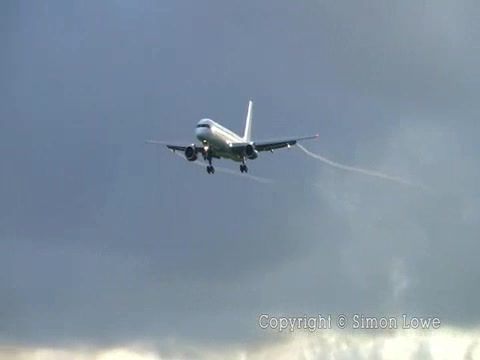aeroplane: (147, 98, 320, 178)
